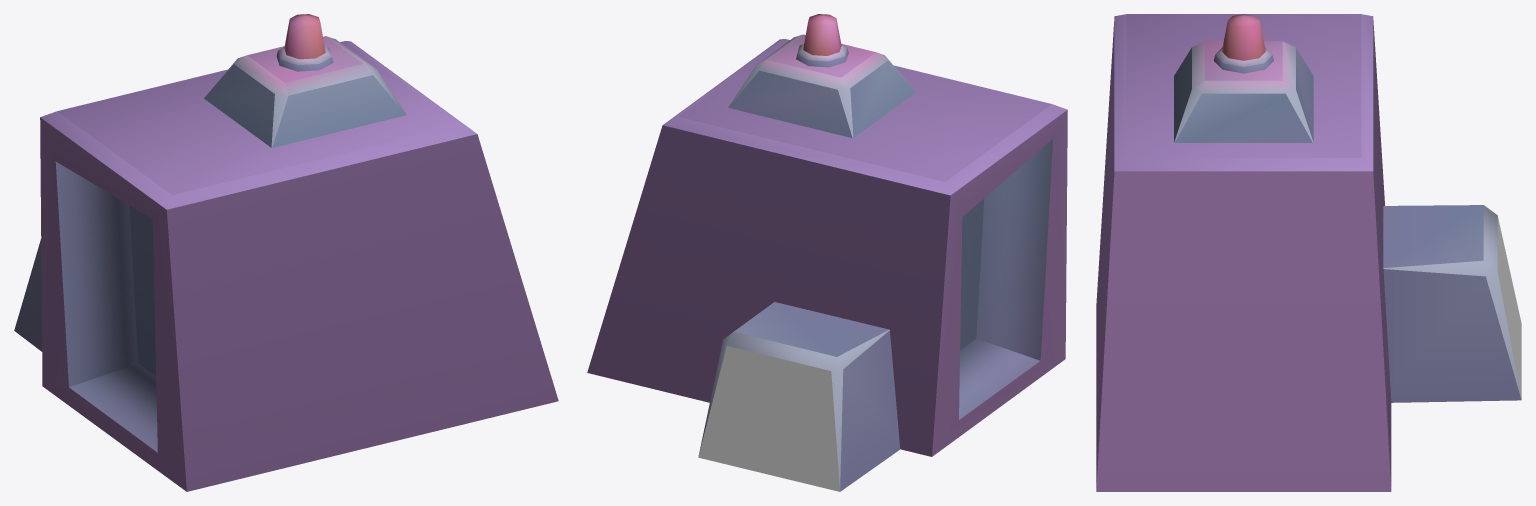
Rendered from prop-small_compactor_holder.glb.
The picture shows the model from 3 angles, left to right: view 1: azimuth 30°, elevation 25°; view 2: azimuth 150°, elevation 25°; view 3: azimuth 270°, elevation 25°; orthographic projection. The views are drawn at different scales.
Visible parts, largest first — view 1: prop-small_compactor_holder; view 2: prop-small_compactor_holder; view 3: prop-small_compactor_holder.
Part boxes in pixels (x1,y1,x2,y2): prop-small_compactor_holder: [14, 14, 558, 491]; prop-small_compactor_holder: [587, 14, 1067, 491]; prop-small_compactor_holder: [1096, 14, 1521, 491].
Bounding box in the file's own units: 7.64 × 7.17 × 7.18.
